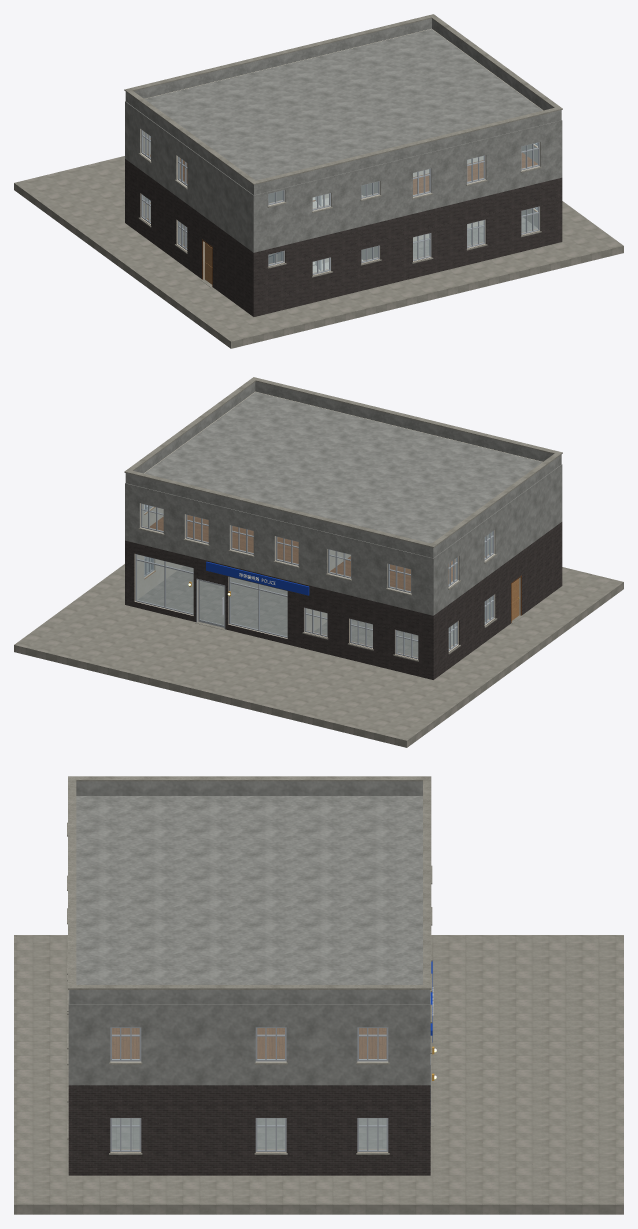
File: b_police_station.gltf
3 views of the same model, one above another, from view 1: azimuth 30°, elevation 25°; view 2: azimuth 150°, elevation 25°; view 3: azimuth 270°, elevation 25° (orthographic). The views are drawn at different scales.
Parts seen in each view (by area): view 1: S_police_station; view 2: S_police_station, D_police_station_F1_S5_Door0; view 3: S_police_station.
Part boxes in pixels (x1,y1,x2,y2): S_police_station: (14,14,623,348); S_police_station: (14,377,623,747); D_police_station_F1_S5_Door0: (198,580,224,627); S_police_station: (14,776,623,1214).
Size of the model in its own units: 23 by 7.86 by 22.
Materials: 18 (10 with a texture image).
